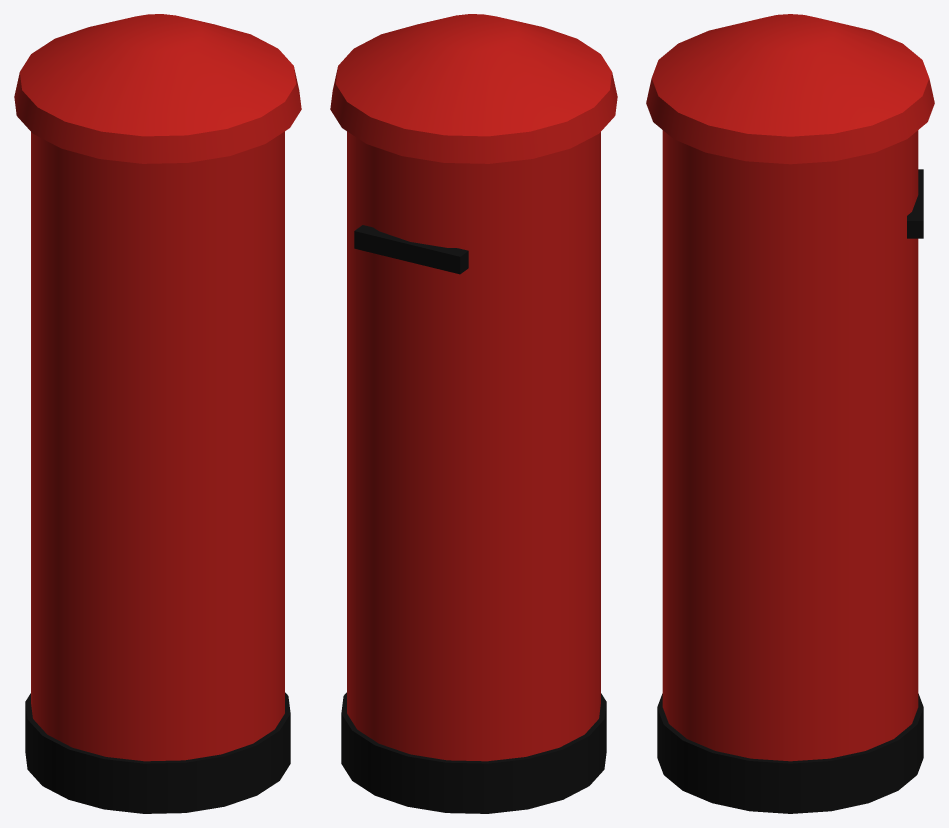
The model's file is street.furniture.post_box.glb.
3 renders of one model, left to right at view 1: azimuth 30°, elevation 25°; view 2: azimuth 150°, elevation 25°; view 3: azimuth 270°, elevation 25°, orthographic.
Visible parts, largest first — view 1: main__hazard_red, main__plastic_black; view 2: main__hazard_red, main__plastic_black; view 3: main__hazard_red, main__plastic_black.
Part boxes in pixels (box(x1,y1,x2,y2)): main__hazard_red: box(14, 14, 301, 761); main__plastic_black: box(25, 692, 290, 813); main__hazard_red: box(330, 14, 617, 761); main__plastic_black: box(341, 225, 606, 813); main__hazard_red: box(646, 14, 934, 761); main__plastic_black: box(657, 169, 923, 813).
Size of the model in its own units: 0.52 by 1.44 by 0.52.
